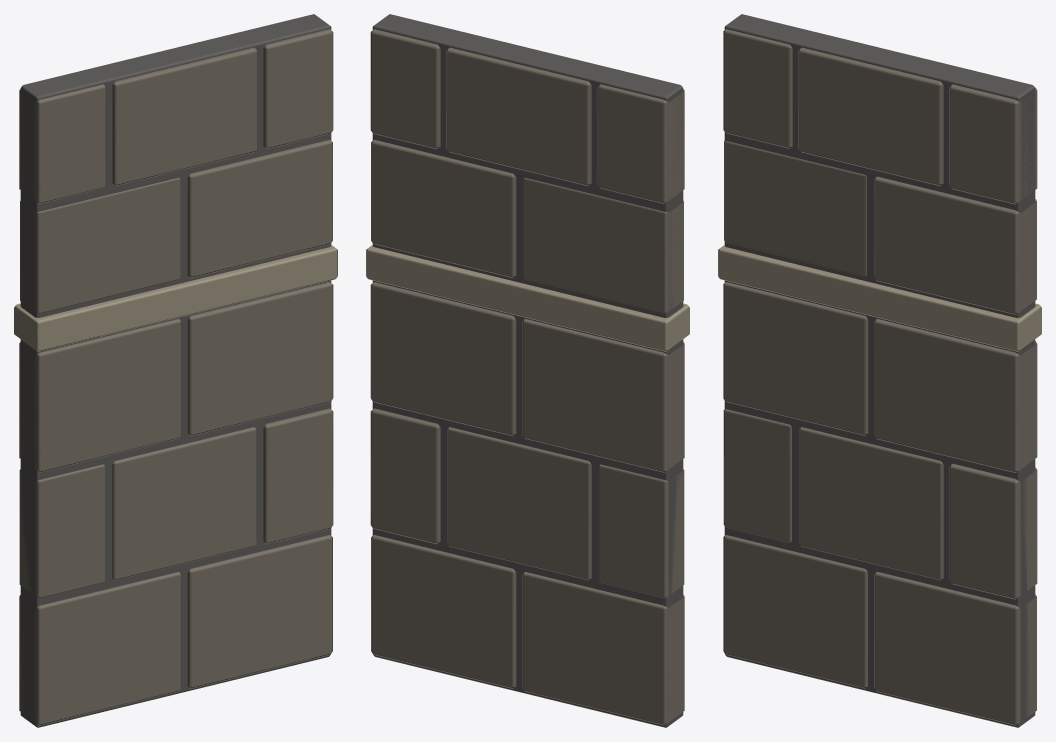
File: stone-halls-wall-ashlar-b.d9f957ed.glb
3 views of the same model, side by side, from view 1: azimuth 30°, elevation 25°; view 2: azimuth 150°, elevation 25°; view 3: azimuth 330°, elevation 25° (orthographic).
Visible parts, largest first — view 1: body; view 2: body; view 3: body.
Part boxes in pixels (x1,y1,x2,y2): body: (14,14,337,727); body: (366,14,689,727); body: (718,14,1041,727).
Bounding box in the file's own units: 1 × 2 × 0.14.
